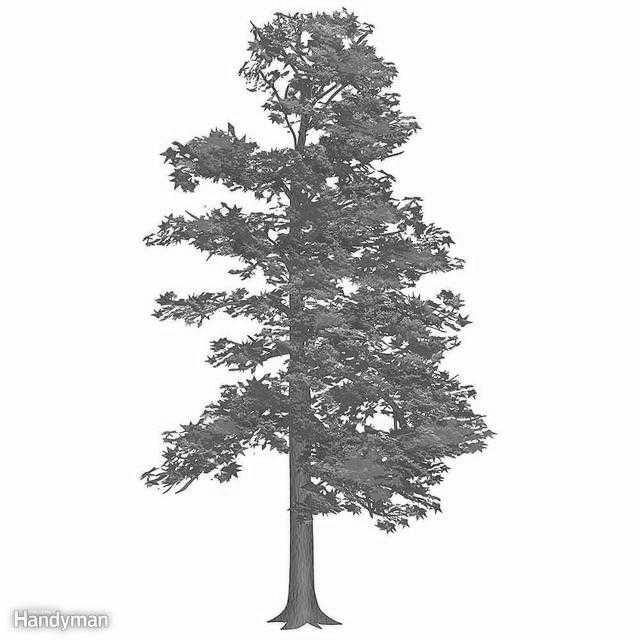Tree: (142, 10, 492, 629)
